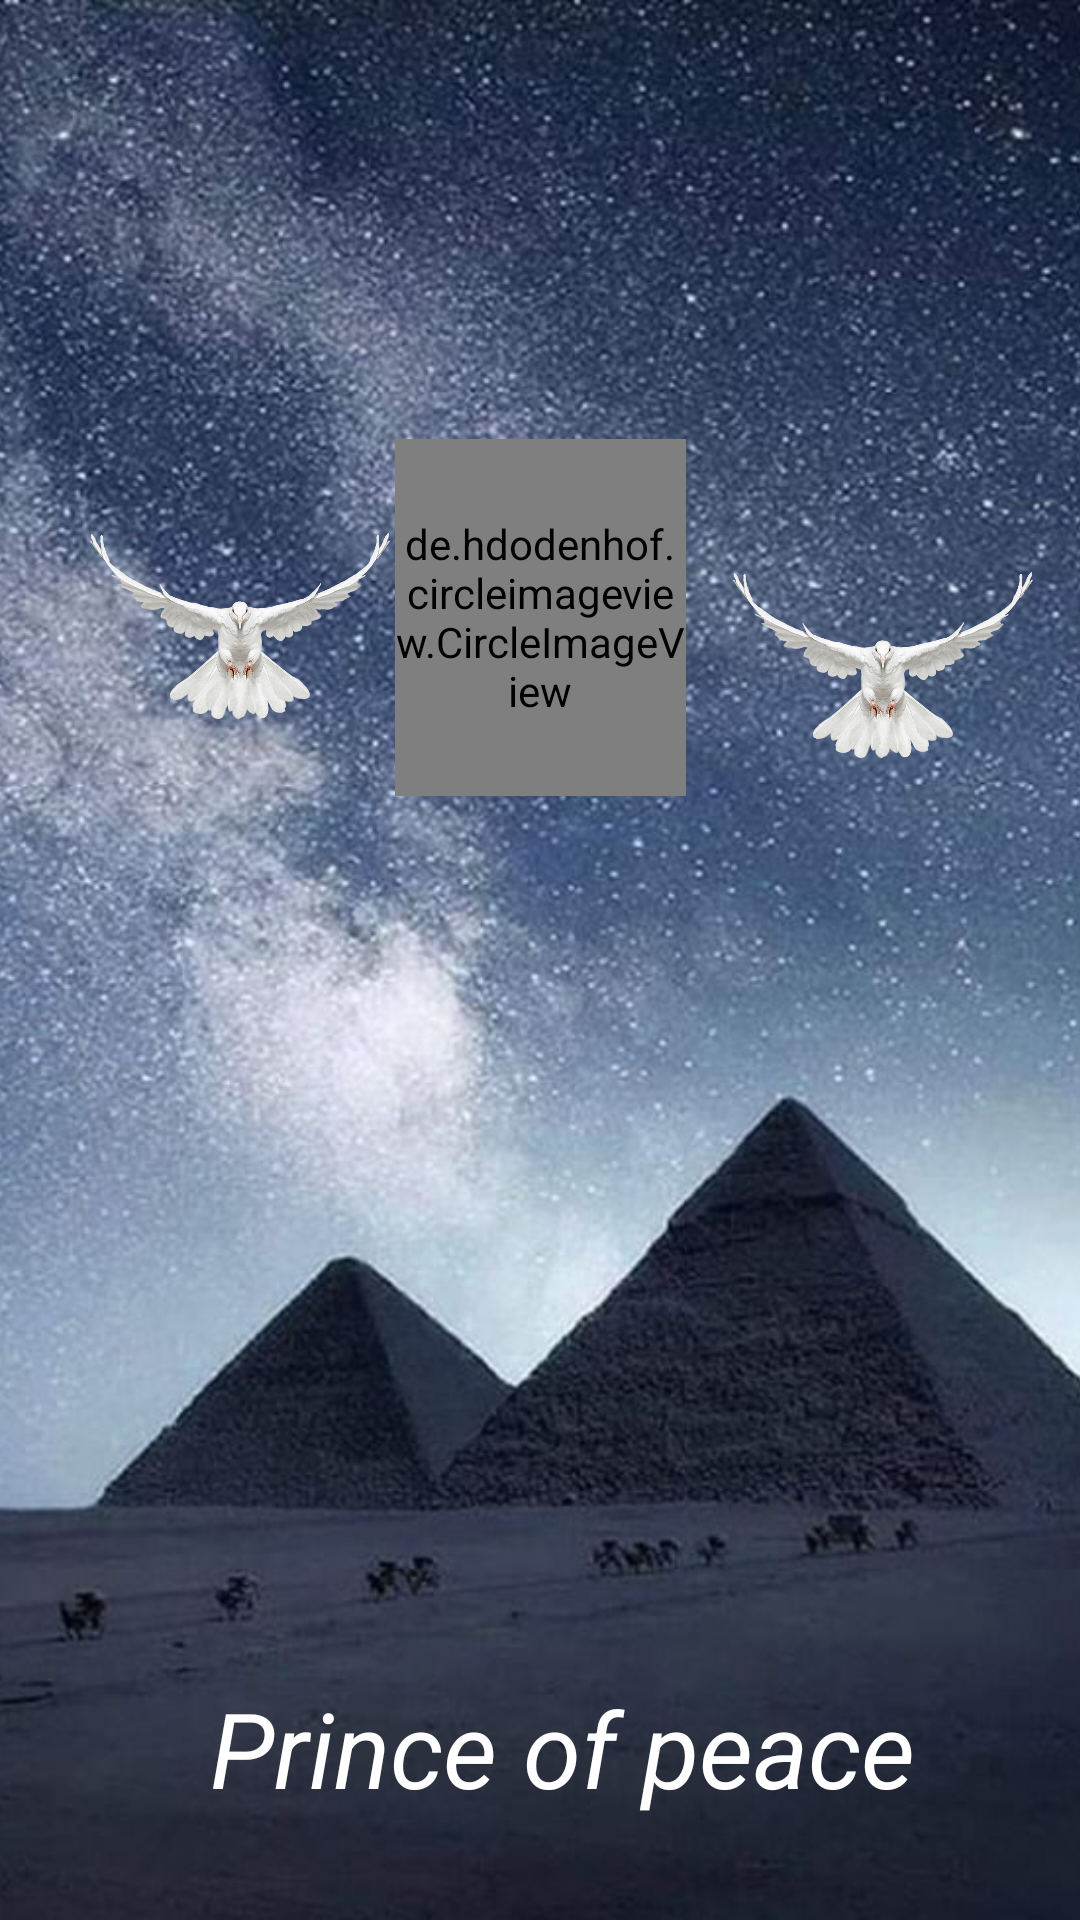

Icons on this 1080px×1920px Android screen, each with the point to tap as (x=x, y=y):
doves: (x=240, y=627), (x=883, y=666)
